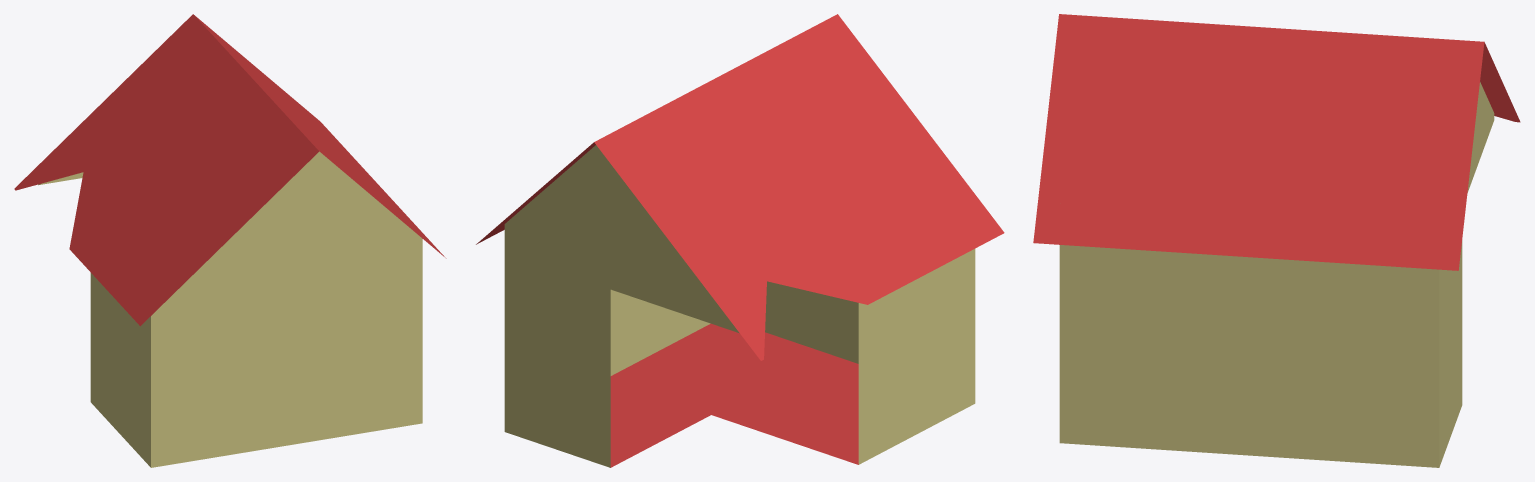
The picture shows the model from 3 angles, left to right: view 1: azimuth 30°, elevation 25°; view 2: azimuth 150°, elevation 25°; view 3: azimuth 270°, elevation 25°; orthographic projection. The views are drawn at different scales.
Bounding box in the file's own units: 15.1 × 15.77 × 13.1.
